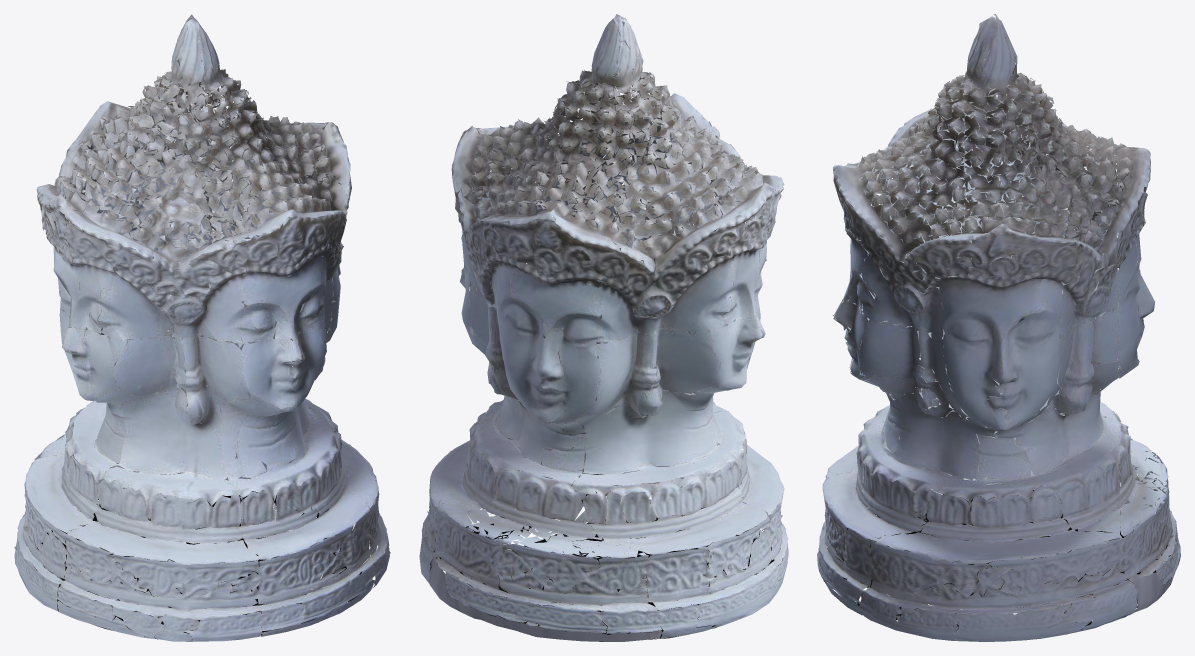
3 views of the same model, side by side, from view 1: azimuth 30°, elevation 25°; view 2: azimuth 150°, elevation 25°; view 3: azimuth 270°, elevation 25° (orthographic).
Visible parts, largest first — view 1: statue-031; view 2: statue-031; view 3: statue-031.
Boxes of the visible parts, <box> form: statue-031: <box>14,14,390,641</box>; statue-031: <box>419,14,788,641</box>; statue-031: <box>817,14,1180,641</box>.
Bounding box in the file's own units: 0.6061 × 0.9931 × 0.5974.
Materials: 1 (1 with a texture image).
